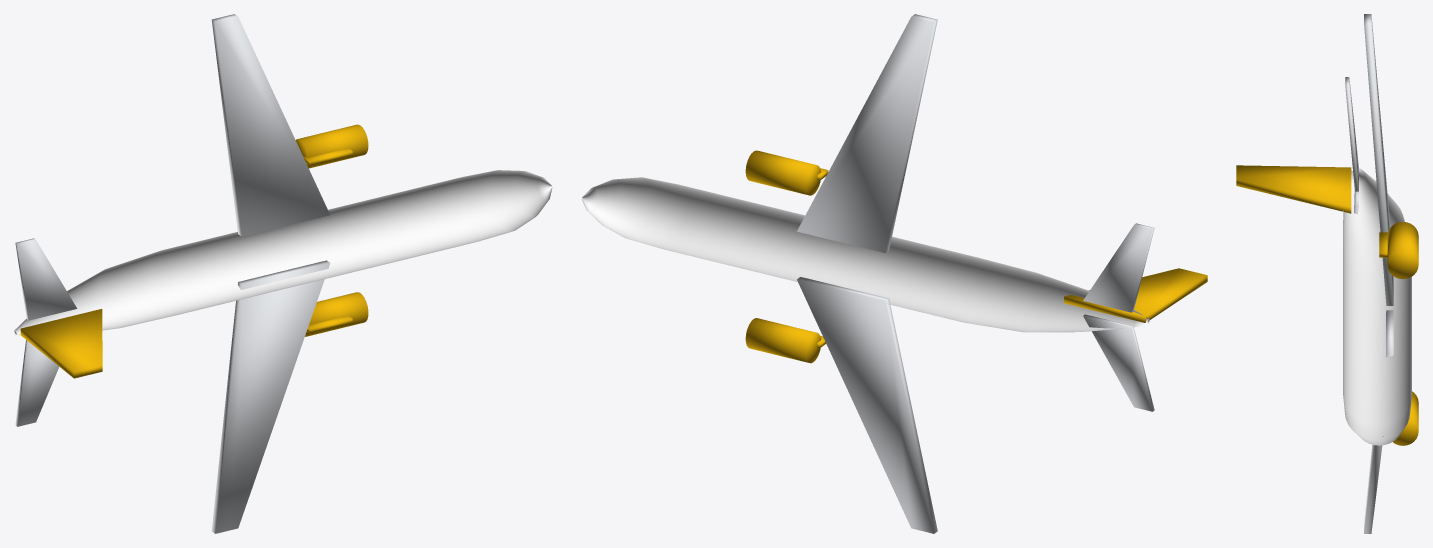
The model's file is plane_dep.glb.
3 views of the same model, side by side, from view 1: azimuth 30°, elevation 25°; view 2: azimuth 150°, elevation 25°; view 3: azimuth 270°, elevation 25° (orthographic).
Parts seen in each view (by area): view 1: fuselage, ailes, stabilisateur, reacteurs, derive; view 2: fuselage, ailes, stabilisateur, reacteurs, derive; view 3: fuselage, derive, ailes, reacteurs, stabilisateur.
Boxes of the visible parts, bbox=[...] form: fuselage: bbox=[14, 170, 552, 335]; ailes: bbox=[211, 14, 330, 533]; stabilisateur: bbox=[15, 238, 77, 426]; reacteurs: bbox=[295, 124, 368, 336]; derive: bbox=[20, 309, 102, 378]; fuselage: bbox=[582, 177, 1149, 332]; ailes: bbox=[797, 14, 937, 533]; stabilisateur: bbox=[1083, 223, 1154, 411]; reacteurs: bbox=[745, 150, 828, 363]; derive: bbox=[1064, 268, 1207, 322]; fuselage: bbox=[1343, 168, 1411, 445]; derive: bbox=[1236, 165, 1351, 213]; ailes: bbox=[1364, 14, 1393, 533]; reacteurs: bbox=[1379, 222, 1418, 445]; stabilisateur: bbox=[1345, 77, 1358, 214].
Size of the model in its own units: 38.73 by 34.2 by 11.1.
